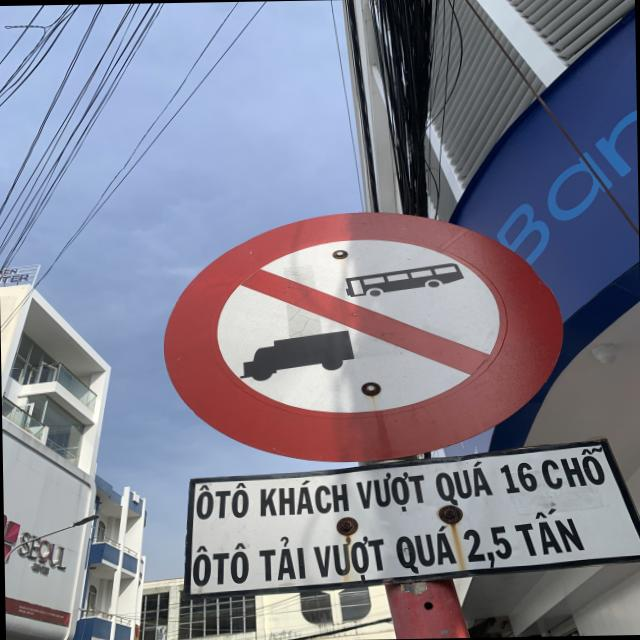Cam_XeTai_XeKhach: (164, 207, 566, 467)
